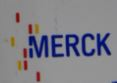Merck: (10, 10, 113, 83)
